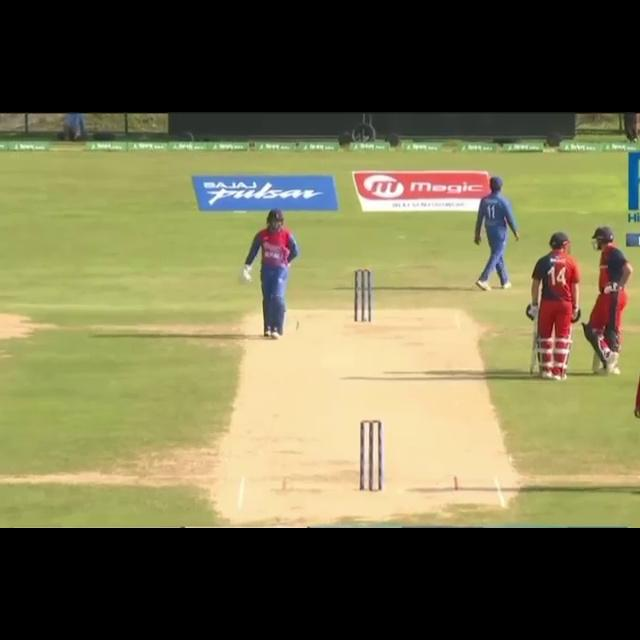umpire: (622, 315, 640, 497)
